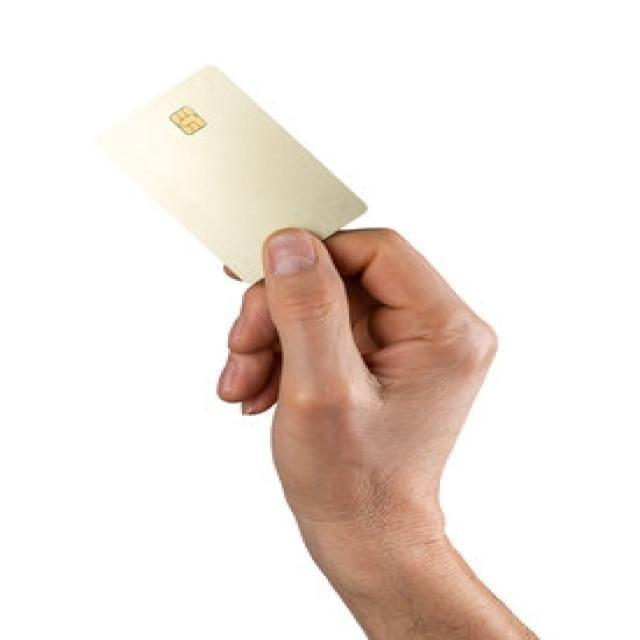payment_card: (98, 62, 368, 286)
